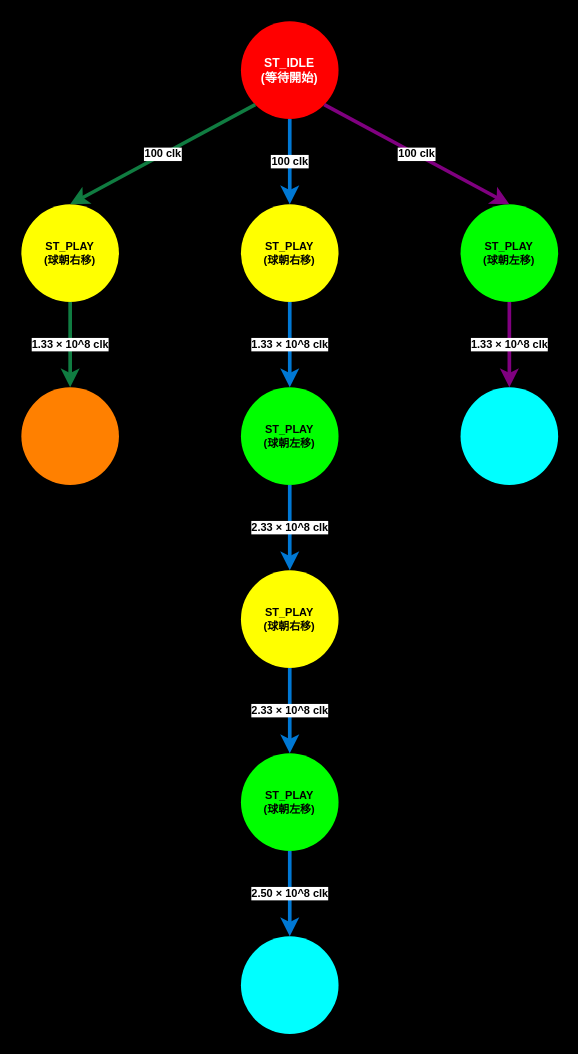
Some shapes in this 578 by 1054 pixel diagram are drawn without their labels. Each missing label, with the box of its shape:
ST_OVER (右玩家勝): (460, 387, 558, 484)
ST_OVER (左玩家勝): (21, 387, 118, 484)
ST_SCORE (右玩家得分): (240, 936, 338, 1033)
